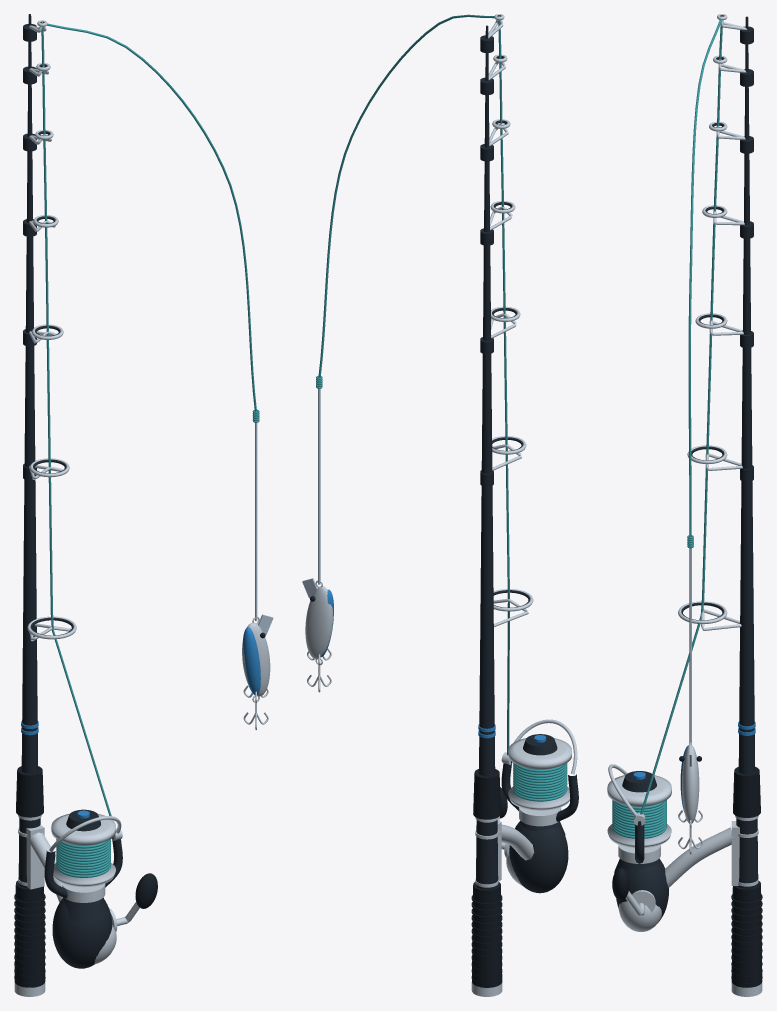
File: fishing-rig.glb
The picture shows the model from 3 angles, left to right: view 1: azimuth 30°, elevation 25°; view 2: azimuth 150°, elevation 25°; view 3: azimuth 270°, elevation 25°; orthographic projection.
Parts seen in each view (by area): view 1: rod, reel, mainLine, lure, leaderLine; view 2: rod, reel, mainLine, lure, leaderLine; view 3: rod, reel, mainLine, lure, leaderLine.
Part boxes in pixels (x1,y1,x2,y2): rod: (14,14,76,996); reel: (26,809,157,968); mainLine: (41,23,256,877); lure: (242,614,273,730); leaderLine: (252,409,259,621); rod: (471,14,533,996); reel: (497,719,578,893); mainLine: (318,14,567,801); lure: (302,578,333,692); leaderLine: (316,375,322,584); rod: (678,14,762,996); reel: (607,764,739,931); mainLine: (612,19,722,838); lure: (678,742,702,854); leaderLine: (687,535,693,745).
Size of the model in its own units: 2.18 by 8.02 by 1.16.
